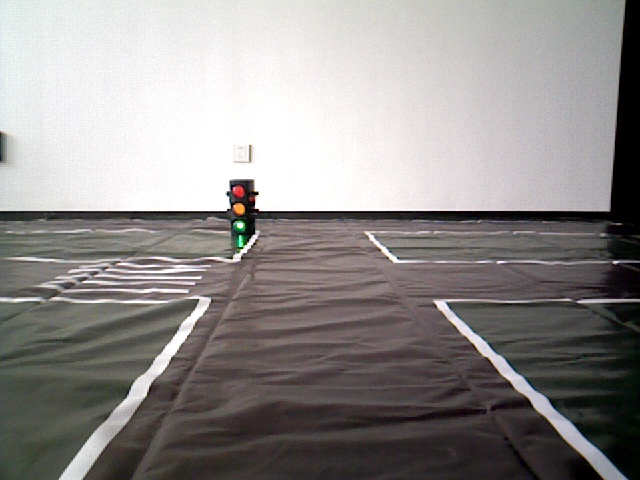green: (227, 182, 258, 237)
